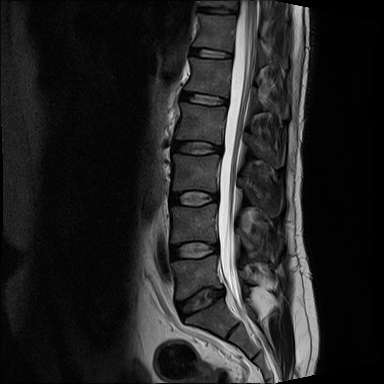Degenerative Disc Disease (DDD): (193, 2, 241, 18)
Lumbar Disc Bulge (LDB): (164, 273, 231, 326), (164, 127, 234, 165)
Normal IVD: (163, 235, 219, 264), (164, 184, 220, 210), (176, 85, 230, 109), (185, 43, 235, 61)
